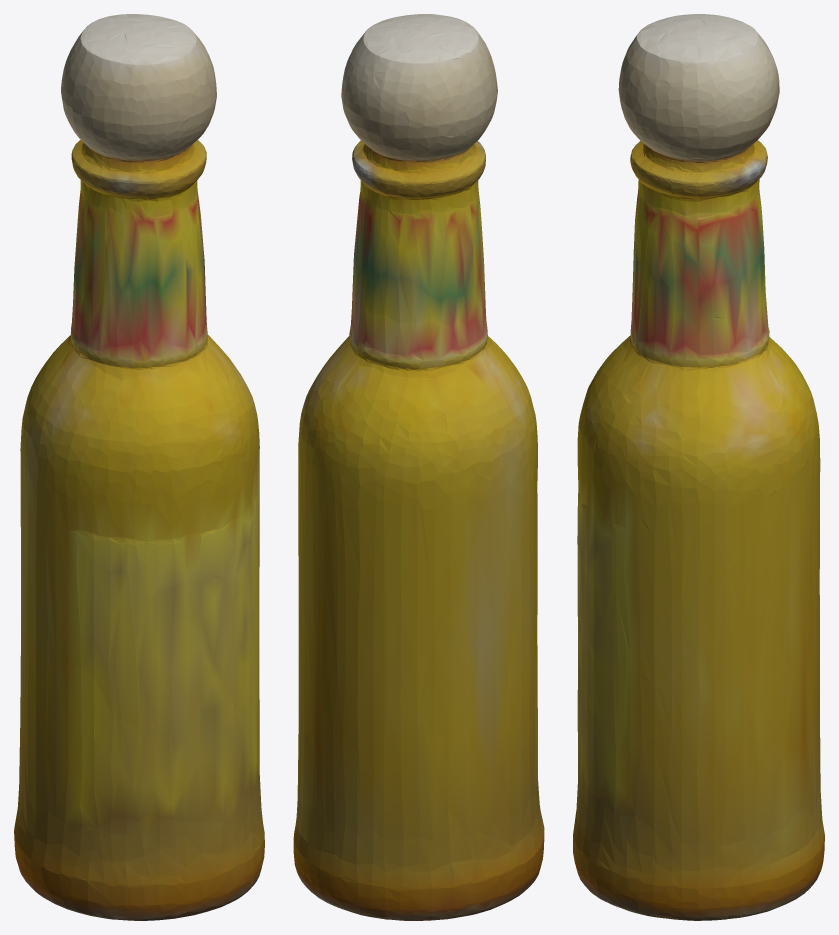
File: kitchen-hot-sauce.glb
3 renders of one model, left to right at view 1: azimuth 30°, elevation 25°; view 2: azimuth 150°, elevation 25°; view 3: azimuth 270°, elevation 25°, orthographic.
Parts seen in each view (by area): view 1: geometry_0; view 2: geometry_0; view 3: geometry_0.
Boxes of the visible parts, bbox=[...] form: geometry_0: bbox=[14, 14, 264, 920]; geometry_0: bbox=[293, 14, 544, 920]; geometry_0: bbox=[573, 14, 824, 920].
Size of the model in its own units: 0.2699 by 0.9988 by 0.2713.
